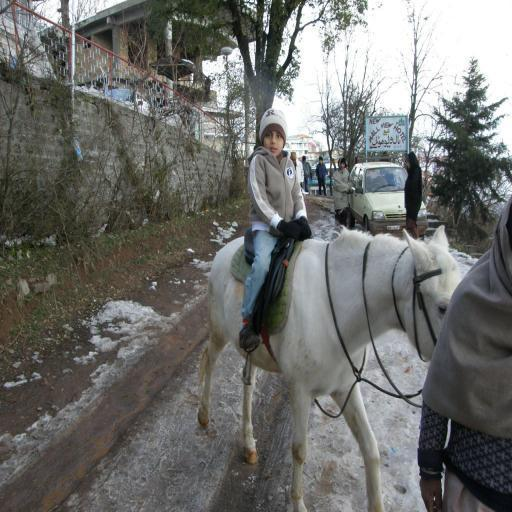horse: (194, 225, 466, 512)
